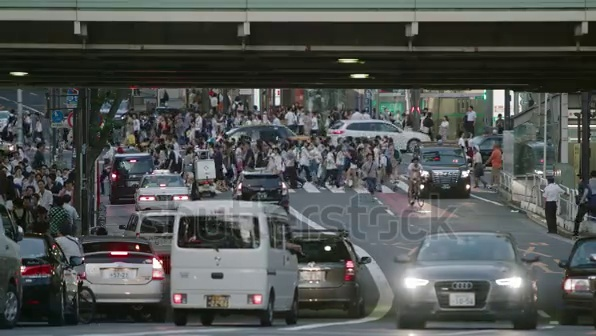licenseplate: (449, 292, 479, 306), (207, 297, 235, 311)
